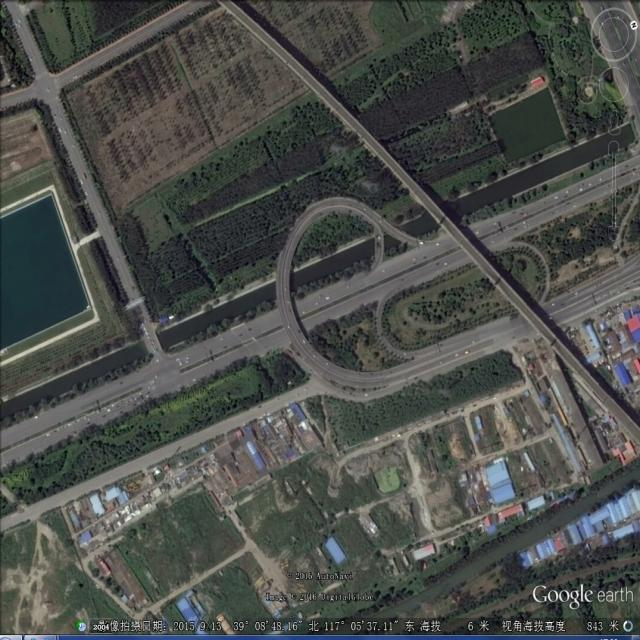overpass: (274, 195, 558, 408)
